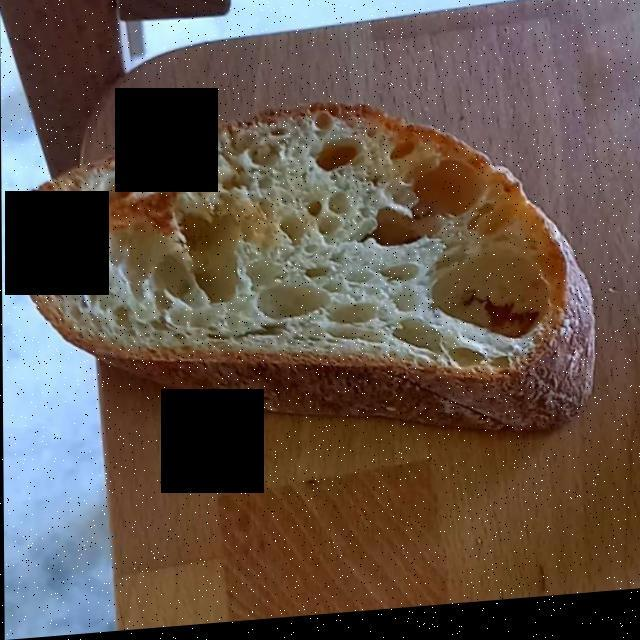bread: (19, 110, 586, 436)
